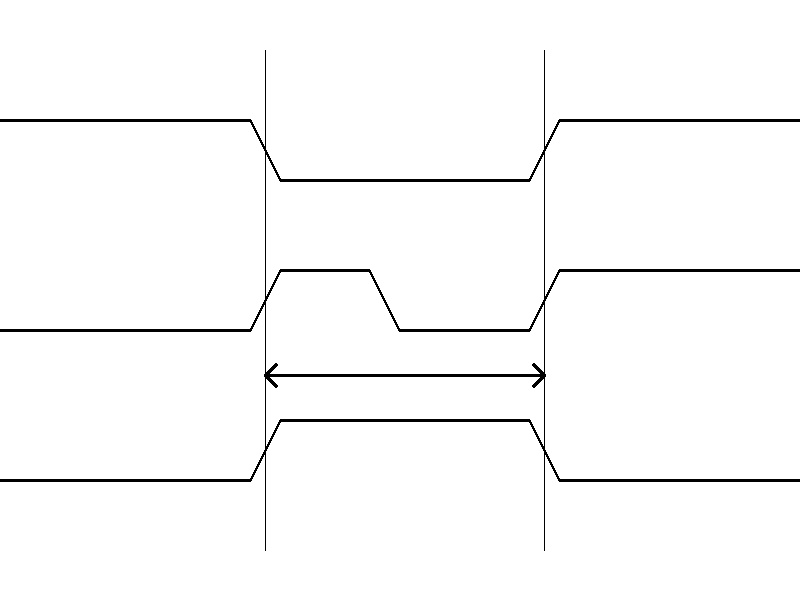double_arrow: (265, 360, 544, 390)
